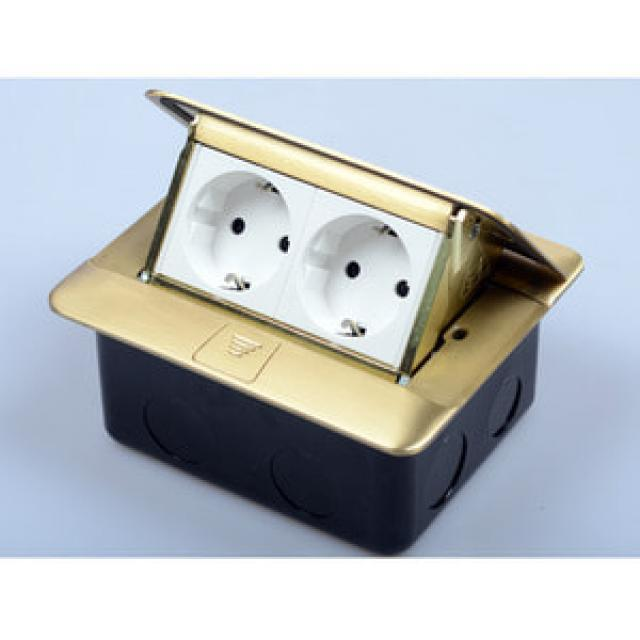typeb: (120, 88, 488, 364)
